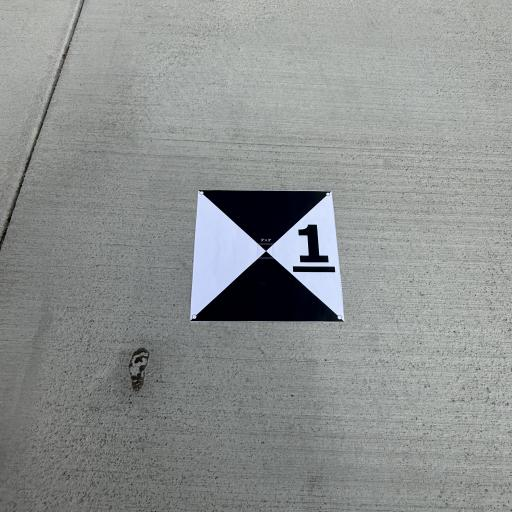target1: (184, 183, 350, 326)
